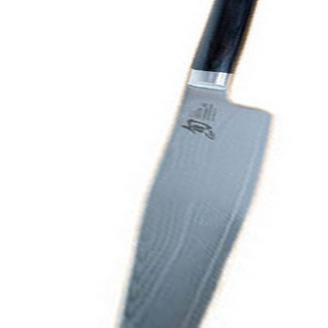knife: (121, 1, 273, 328)
